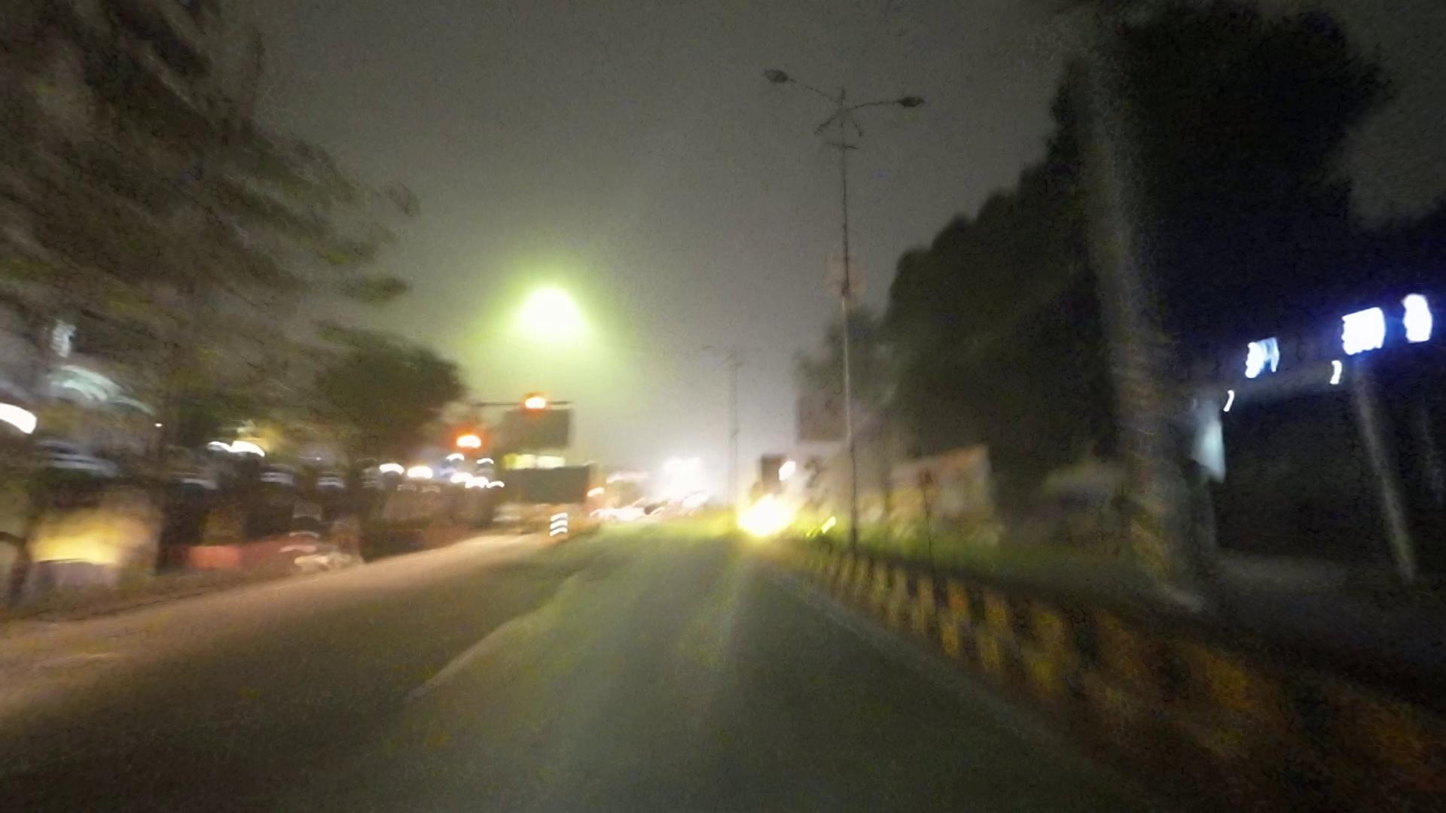streetlight: (760, 63, 839, 104), (857, 87, 930, 121)
